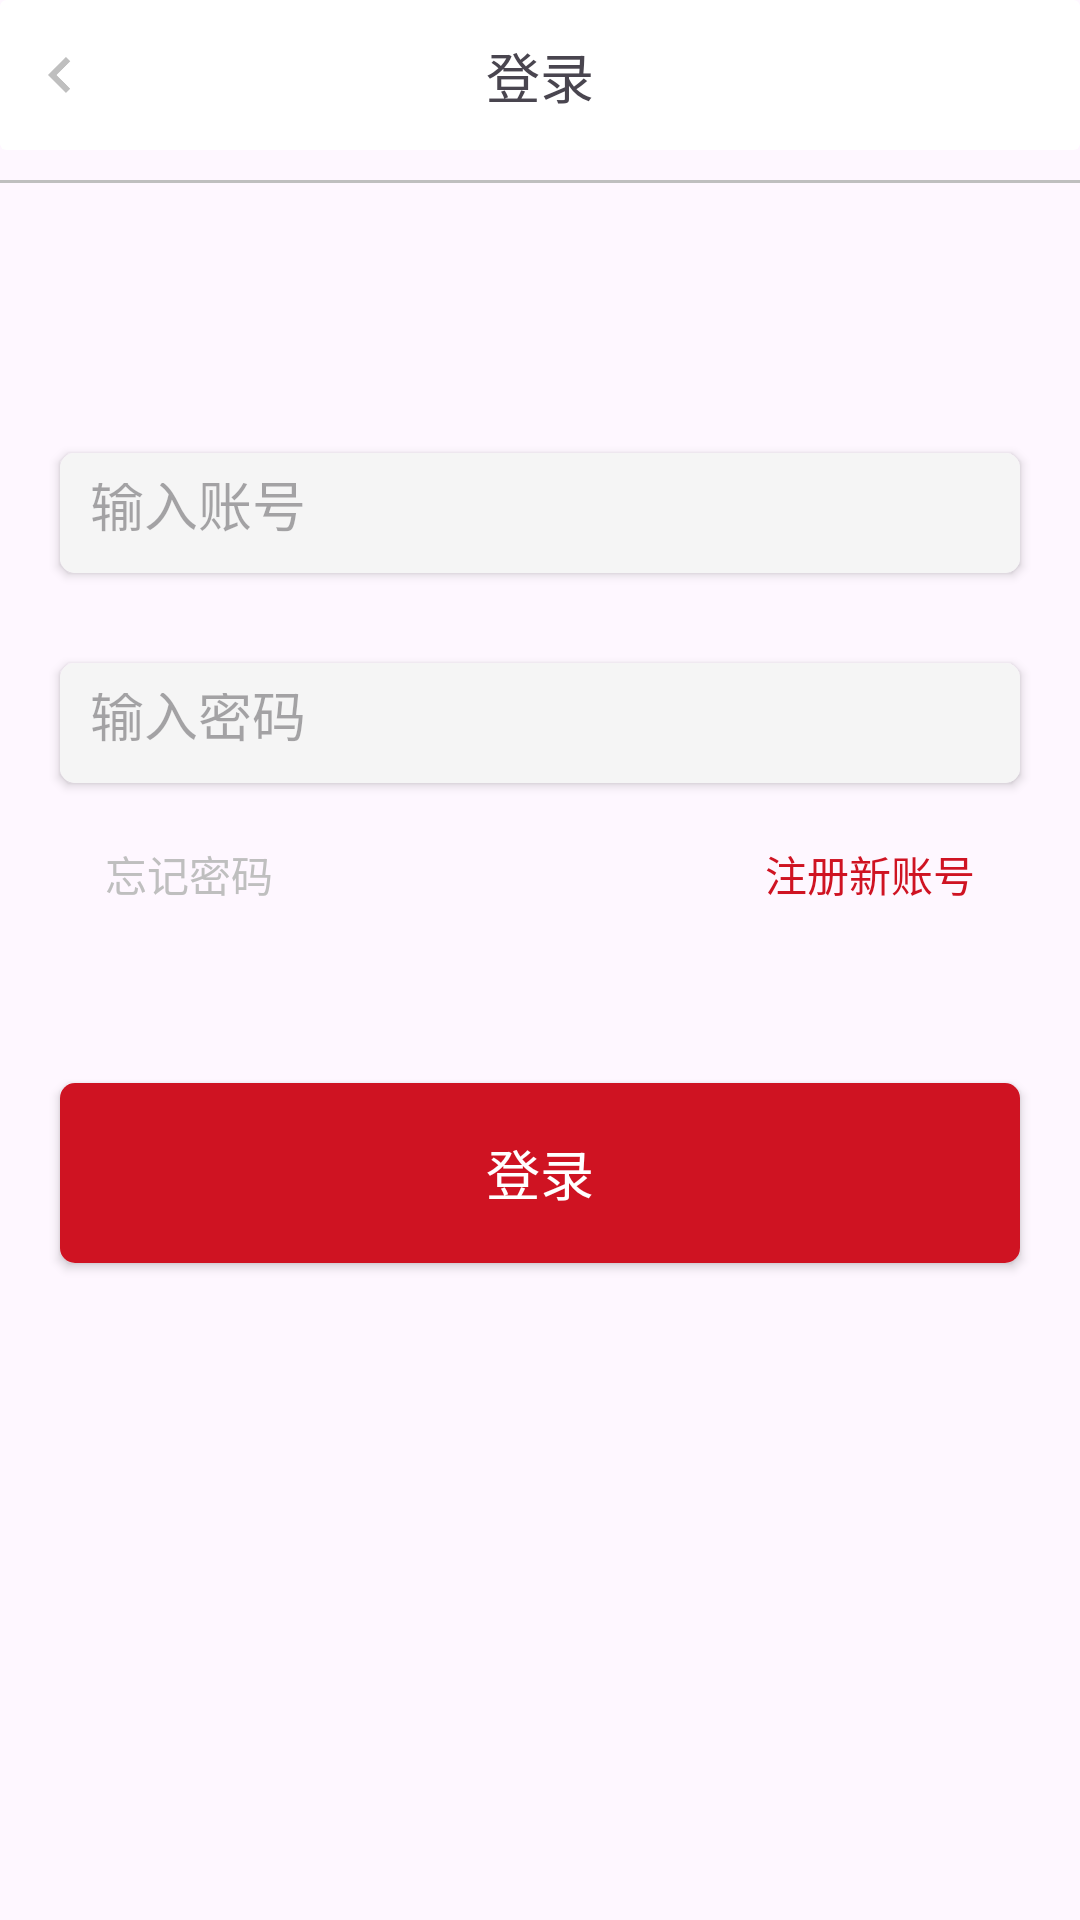

Named icons in this screenshot (1080px x 1920px) and their centers, (x,y):
left arrow: (59,75)
